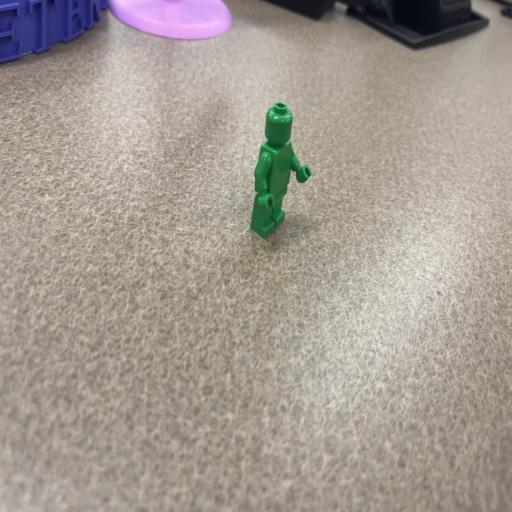Lego-Minifig: (250, 102, 311, 238)
